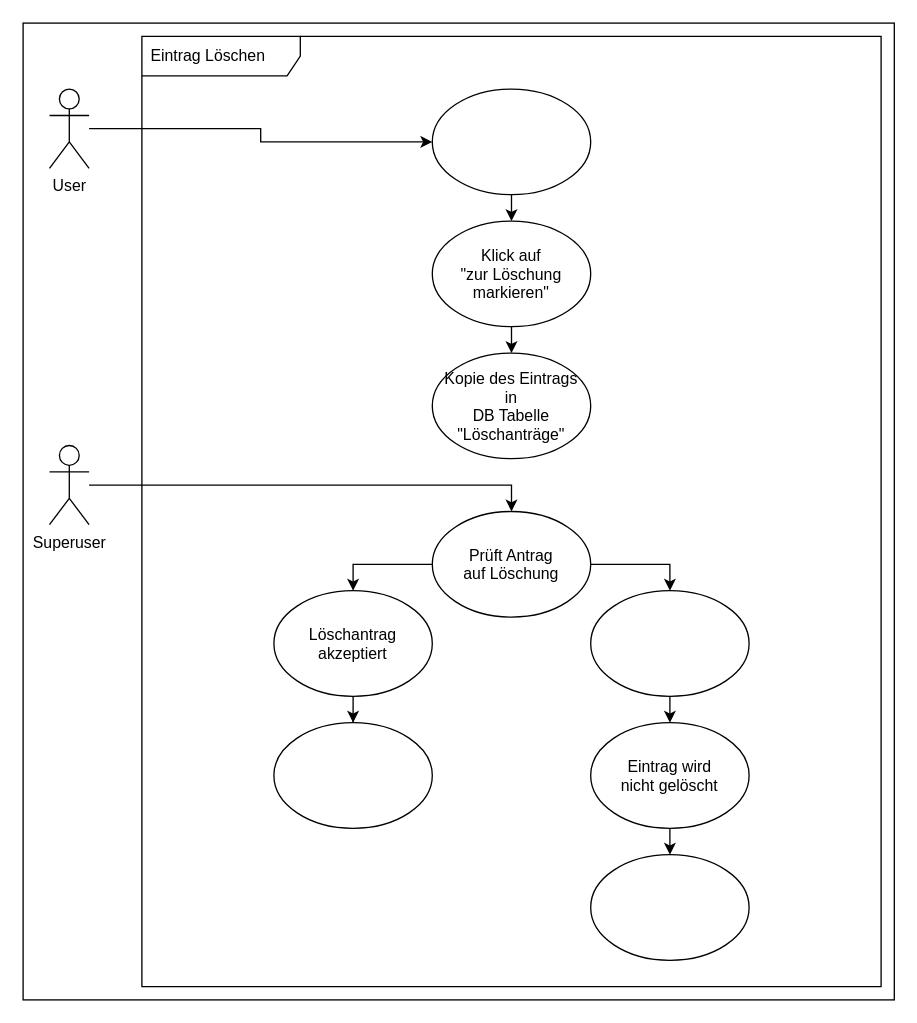
The diagram is 917 pixels wide and 1023 high, and some of its shapes have lost their labels. Here are the shapes that lost their labels. From the top down, the box of each, then its label:
(431, 88, 591, 195): Eintrag ansehen
(589, 589, 749, 696): Löschantrag nicht akzeptiert
(273, 721, 432, 828): Eintrag wird Gelöscht
(589, 853, 749, 960): User wird benachrichtigt
